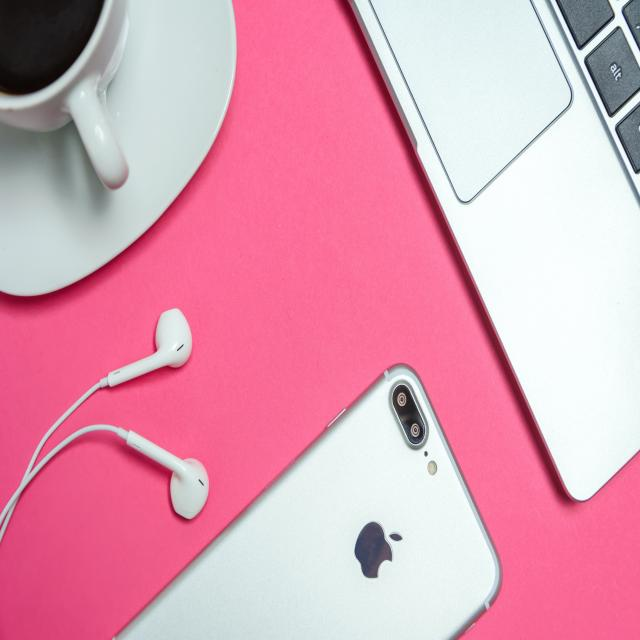headphones: (61, 307, 245, 538)
phone: (102, 376, 493, 640)
